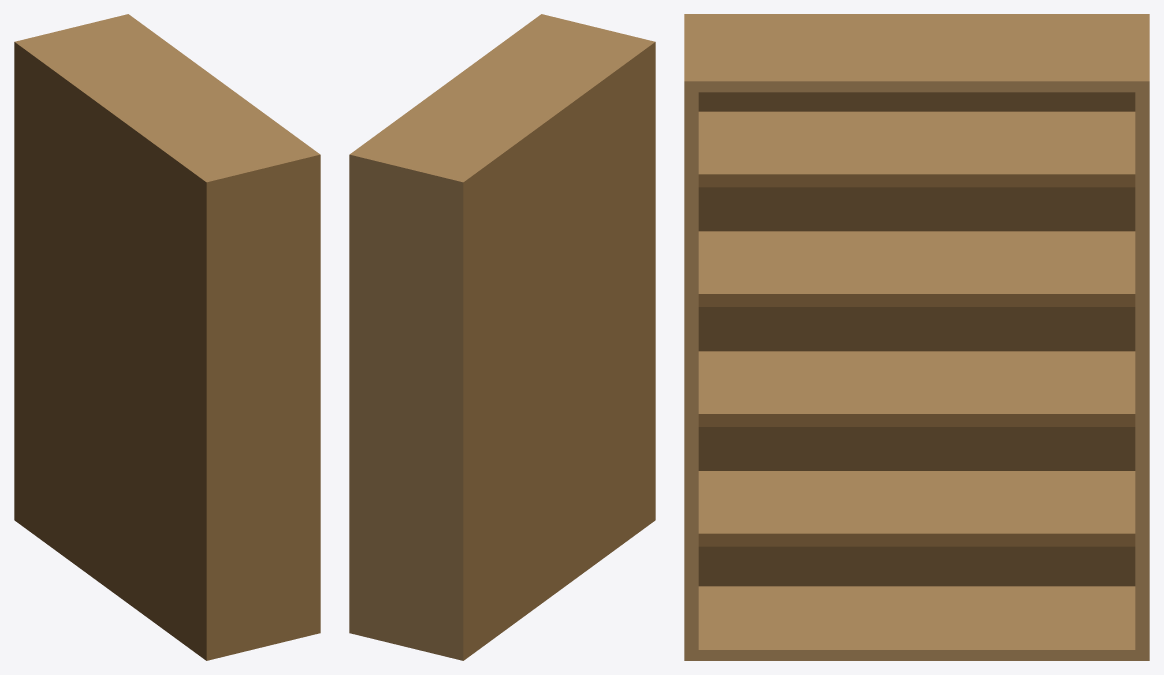
File: Шкафчик2.fbx
3 renders of one model, left to right at view 1: azimuth 30°, elevation 25°; view 2: azimuth 150°, elevation 25°; view 3: azimuth 270°, elevation 25°, orthographic. The views are drawn at different scales.
Visible parts, largest first — view 1: Cube.001; view 2: Cube.001; view 3: Cube.001.
Part boxes in pixels (<box>): Cube.001: <box>14,14,320,660</box>; Cube.001: <box>349,14,655,660</box>; Cube.001: <box>684,14,1149,660</box>.
Bounding box in the file's own units: 117 × 468 × 340.
